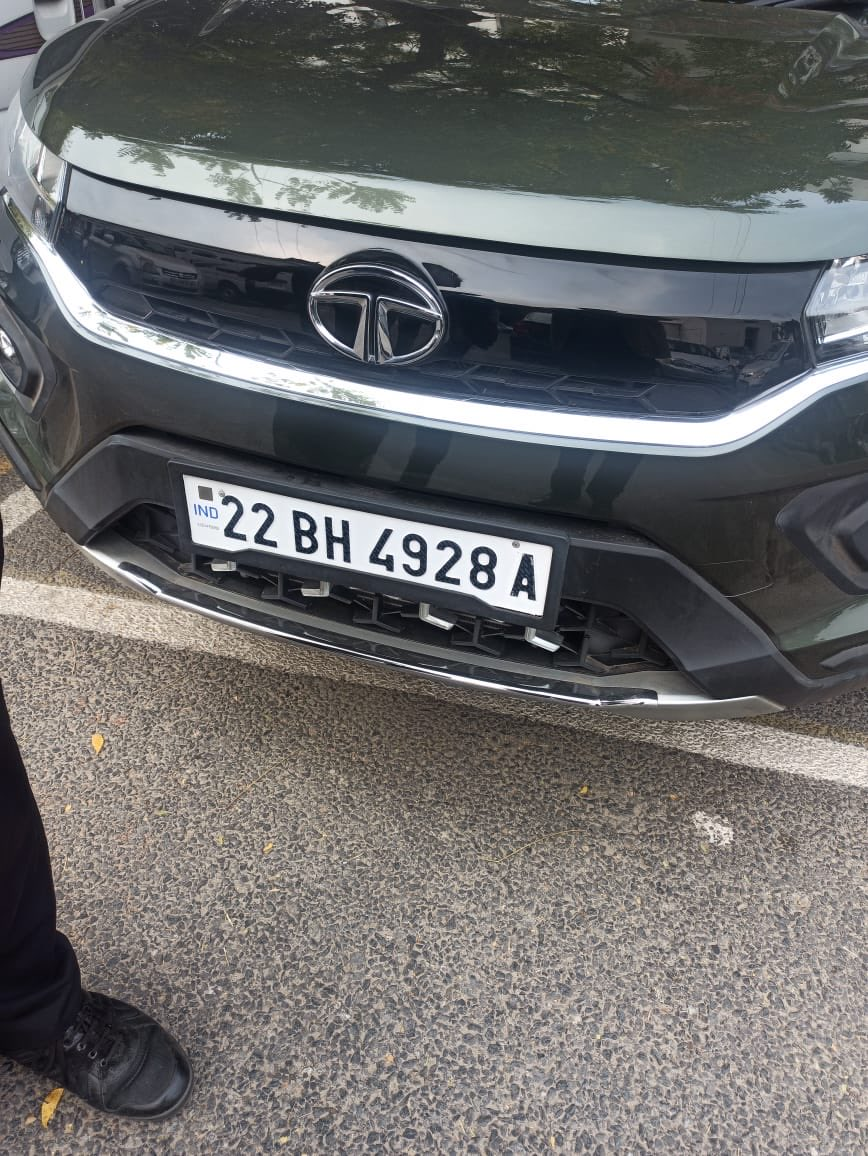number_plate: (150, 443, 576, 671)
